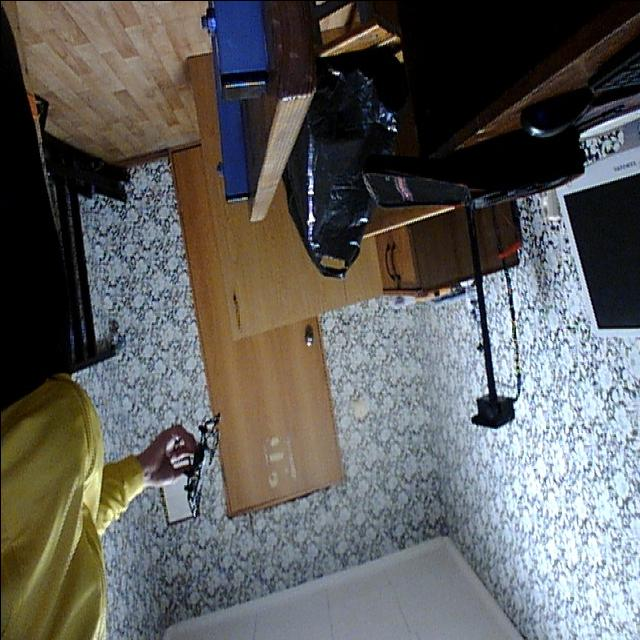drone: (174, 404, 226, 524)
